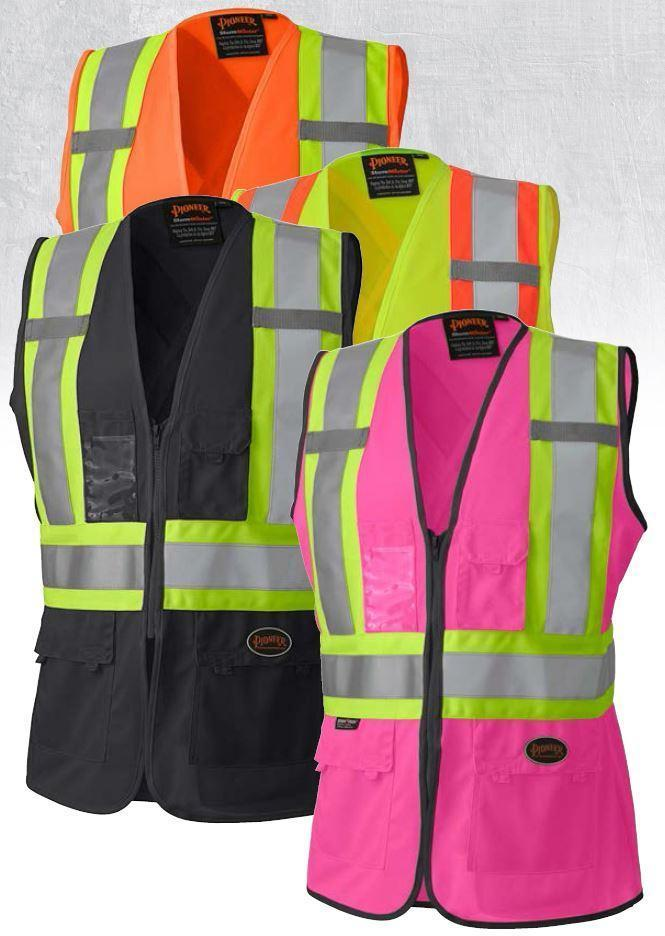vest: (9, 189, 363, 823), (290, 308, 648, 931), (54, 6, 407, 235), (226, 151, 565, 347)
